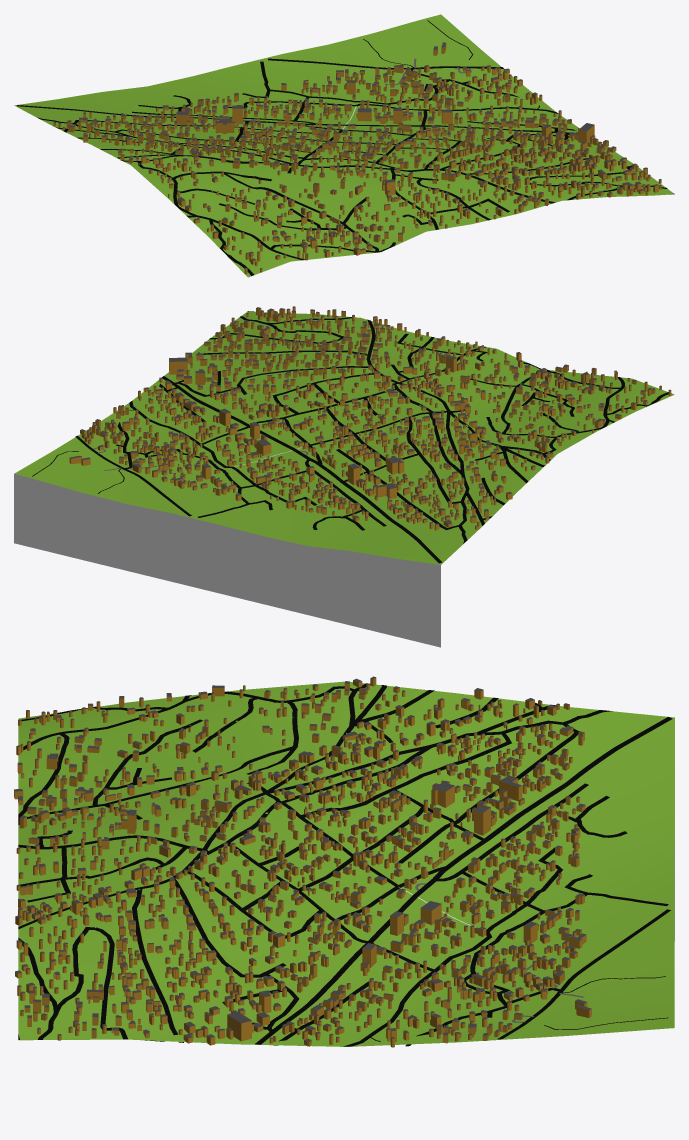
The model's file is tile_02_07.glb.
3 renders of one model, top to bottom at view 1: azimuth 30°, elevation 25°; view 2: azimuth 150°, elevation 25°; view 3: azimuth 270°, elevation 25°, orthographic. The views are drawn at different scales.
Parts seen in each view (by area): view 1: Terrain_02_07, Ub_small.osm_buildings_02_07, Ub_small.osm_roads_residential_02_07, Ub_small.osm_roads_secondary_02_07, Ub_small.osm_roads_tertiary_02_07; view 2: Terrain_02_07, Ub_small.osm_buildings_02_07, Ub_small.osm_roads_residential_02_07, Ub_small.osm_roads_secondary_02_07; view 3: Terrain_02_07, Ub_small.osm_buildings_02_07, Ub_small.osm_roads_residential_02_07, Ub_small.osm_roads_secondary_02_07, Ub_small.osm_roads_tertiary_02_07.
Part boxes in pixels (x1,y1,x2,y2): Terrain_02_07: (14, 14, 673, 277); Ub_small.osm_buildings_02_07: (53, 42, 661, 274); Ub_small.osm_roads_residential_02_07: (37, 61, 674, 275); Ub_small.osm_roads_secondary_02_07: (17, 105, 569, 133); Ub_small.osm_roads_tertiary_02_07: (268, 58, 503, 69); Terrain_02_07: (14, 311, 674, 647); Ub_small.osm_buildings_02_07: (69, 306, 671, 530); Ub_small.osm_roads_residential_02_07: (116, 311, 668, 543); Ub_small.osm_roads_secondary_02_07: (162, 376, 442, 563); Terrain_02_07: (18, 681, 674, 1046); Ub_small.osm_buildings_02_07: (14, 676, 591, 1047); Ub_small.osm_roads_residential_02_07: (18, 683, 668, 1046); Ub_small.osm_roads_secondary_02_07: (255, 717, 672, 1044); Ub_small.osm_roads_tertiary_02_07: (497, 909, 670, 1039).
Size of the model in its own units: 986 by 249 by 934.
